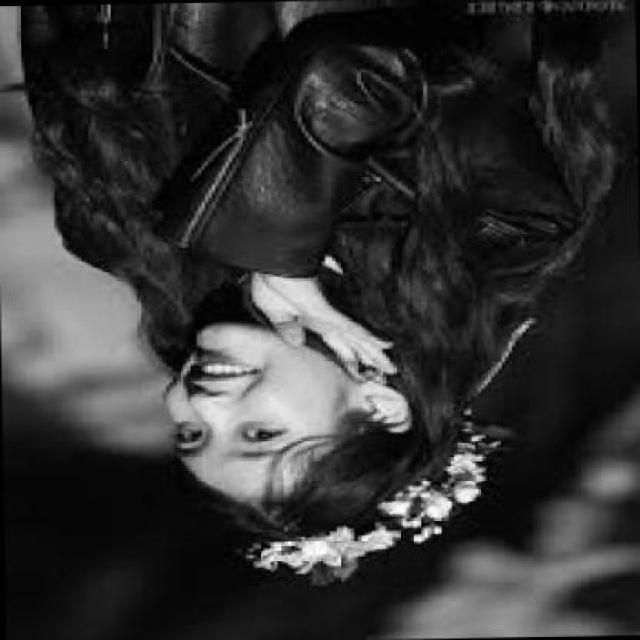earphone: (362, 386, 420, 425)
